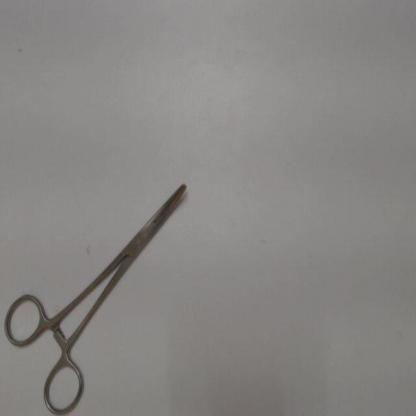Crile Artery Forceps: (2, 178, 192, 415)
